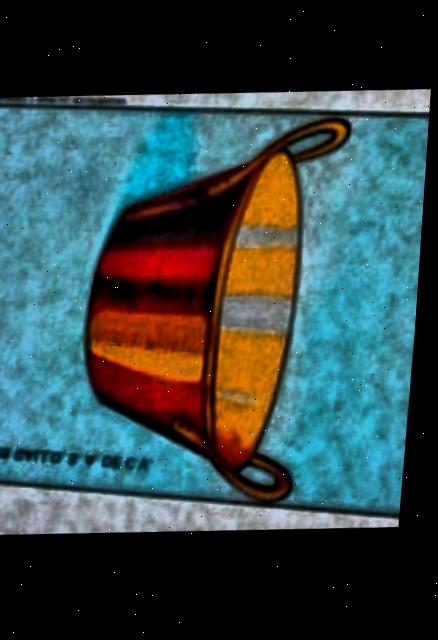El Cazo: (0, 102, 431, 514)
